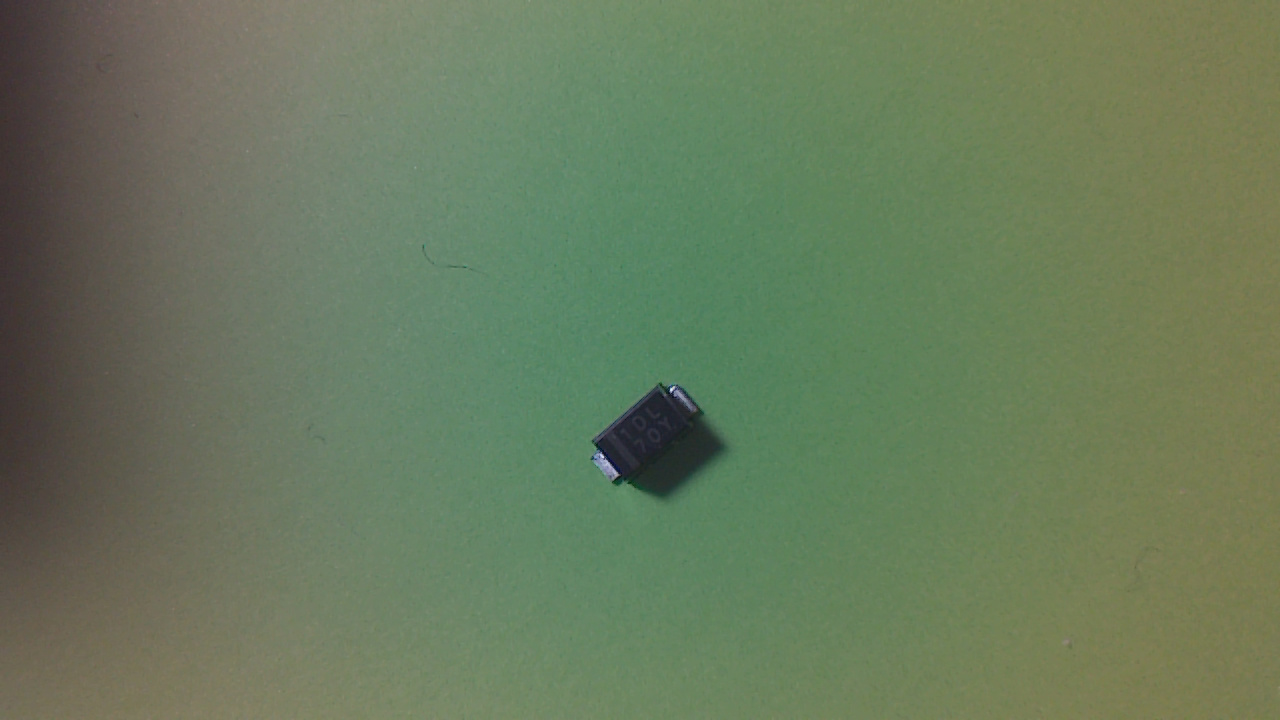Diode: (589, 381, 711, 493)
